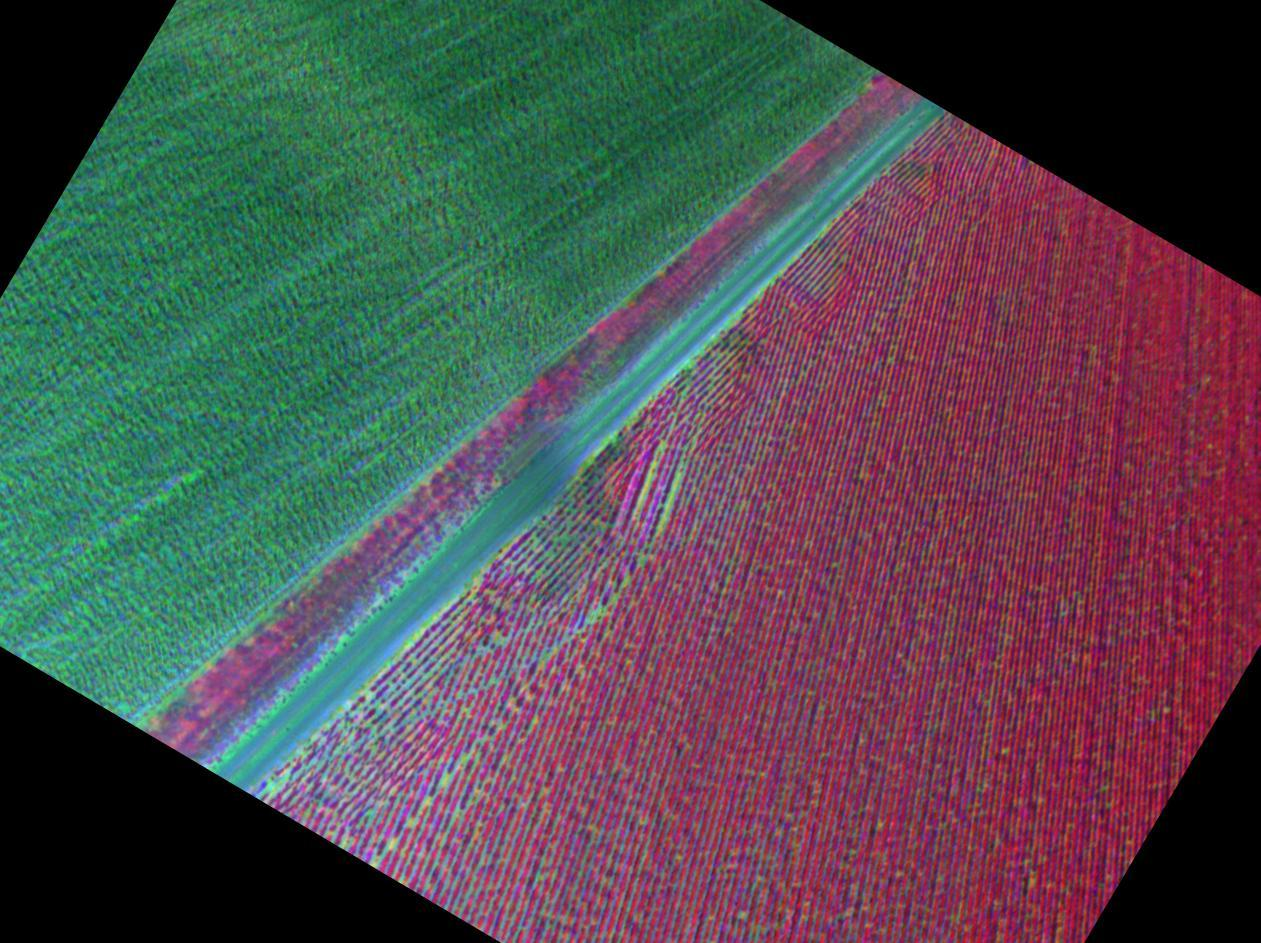dc: (442, 777, 449, 783), (640, 557, 645, 565), (537, 875, 545, 880), (877, 823, 883, 828)
